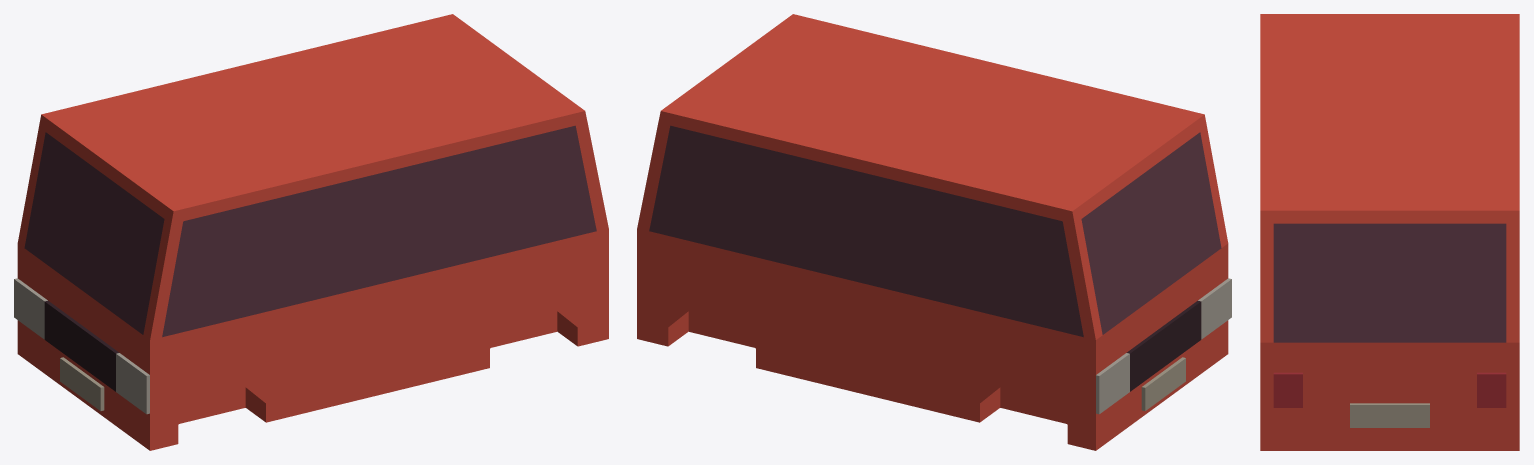
Rendered from MiniVan_Red.fbx.
The picture shows the model from 3 angles, left to right: view 1: azimuth 30°, elevation 25°; view 2: azimuth 150°, elevation 25°; view 3: azimuth 270°, elevation 25°; orthographic projection. The views are drawn at different scales.
Parts seen in each view (by area): view 1: MiniVan_Red, MiniVan_Lights; view 2: MiniVan_Red, MiniVan_Lights; view 3: MiniVan_Red, MiniVan_Lights.
Part boxes in pixels (left/top/right/bottom): MiniVan_Red: left=17, top=14, right=608, bottom=450; MiniVan_Lights: left=14, top=278, right=149, bottom=414; MiniVan_Red: left=637, top=14, right=1228, bottom=450; MiniVan_Lights: left=1096, top=278, right=1231, bottom=414; MiniVan_Red: left=1260, top=14, right=1519, bottom=450; MiniVan_Lights: left=1273, top=372, right=1506, bottom=407.
Bounding box in the file's own units: 3.96 × 1.9 × 1.95.
